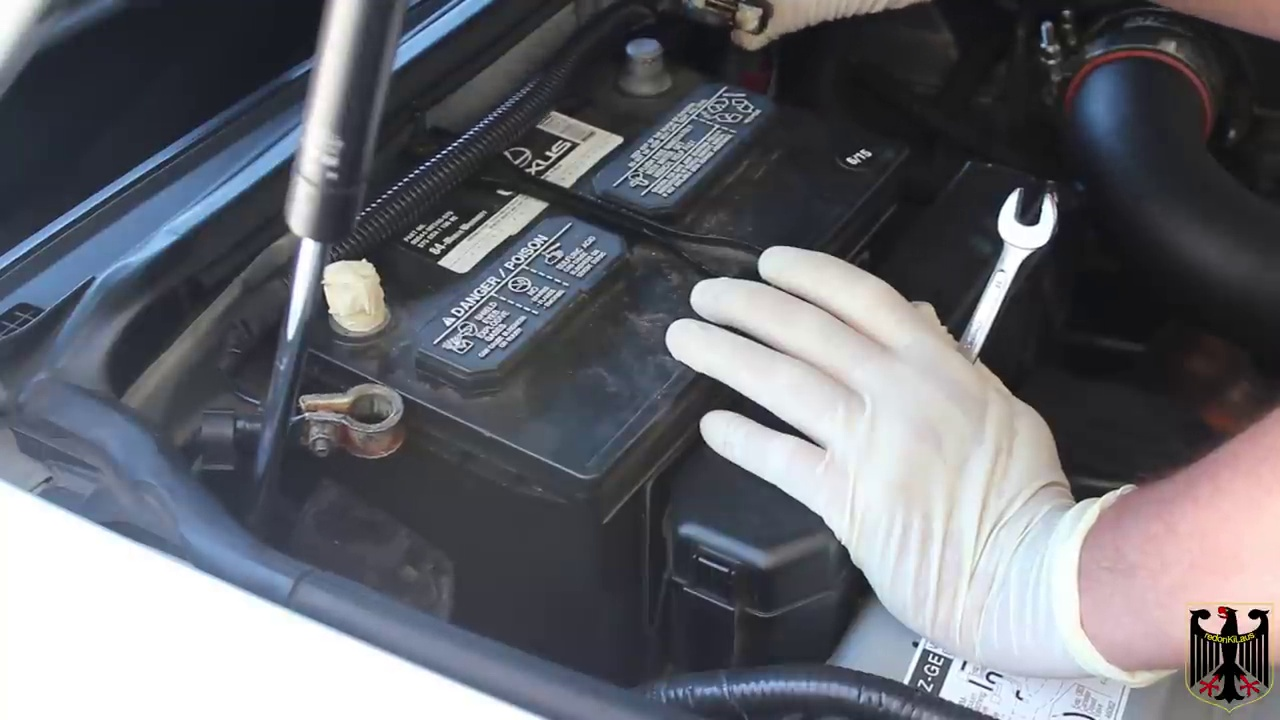battery: (283, 44, 906, 477)
